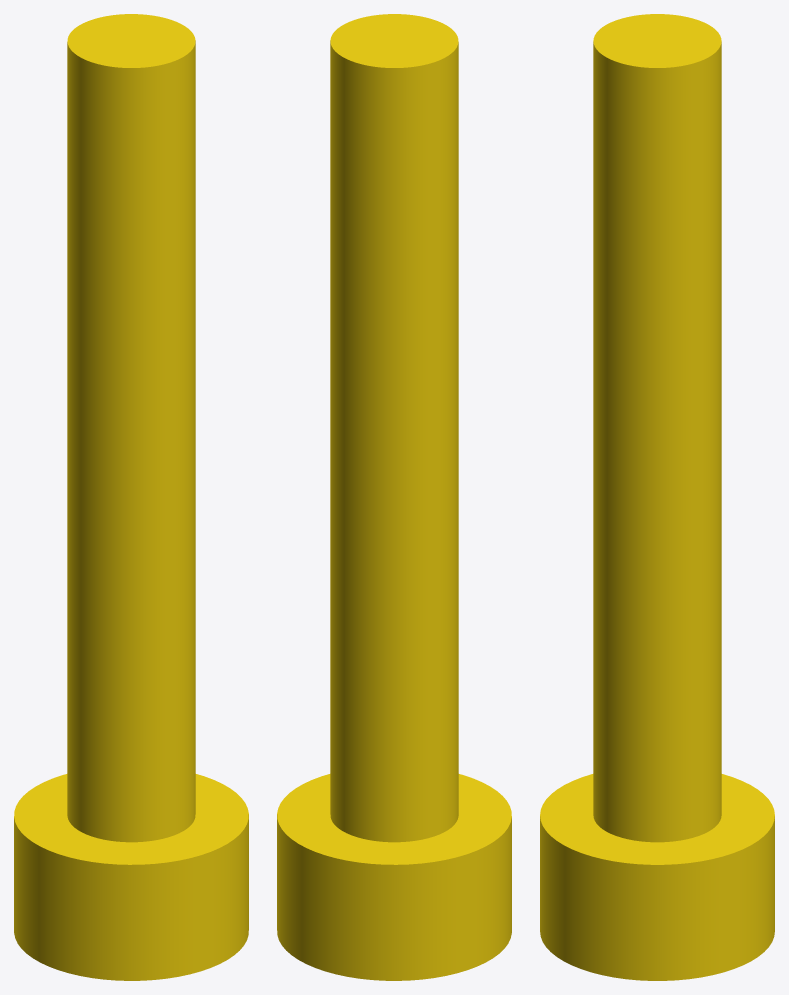
3 renders of one model, left to right at view 1: azimuth 30°, elevation 25°; view 2: azimuth 150°, elevation 25°; view 3: azimuth 270°, elevation 25°, orthographic.
Visible parts, largest first — view 1: mesh78479, mesh78481, mesh78480, mesh78478; view 2: mesh78479, mesh78481, mesh78480, mesh78478; view 3: mesh78479, mesh78481, mesh78480, mesh78478.
Part boxes in pixels (x1=…): mesh78479: x1=67, y1=41, x2=195, y2=842; mesh78481: x1=14, y1=814, x2=248, y2=980; mesh78480: x1=14, y1=774, x2=248, y2=864; mesh78478: x1=67, y1=14, x2=195, y2=67; mesh78479: x1=330, y1=41, x2=458, y2=842; mesh78481: x1=277, y1=814, x2=511, y2=980; mesh78480: x1=277, y1=774, x2=511, y2=864; mesh78478: x1=330, y1=14, x2=458, y2=67; mesh78479: x1=593, y1=42, x2=721, y2=842; mesh78481: x1=540, y1=816, x2=774, y2=980; mesh78480: x1=540, y1=774, x2=774, y2=864; mesh78478: x1=593, y1=14, x2=721, y2=67.
Size of the model in its own units: 0.00549 by 0.023 by 0.0055.
